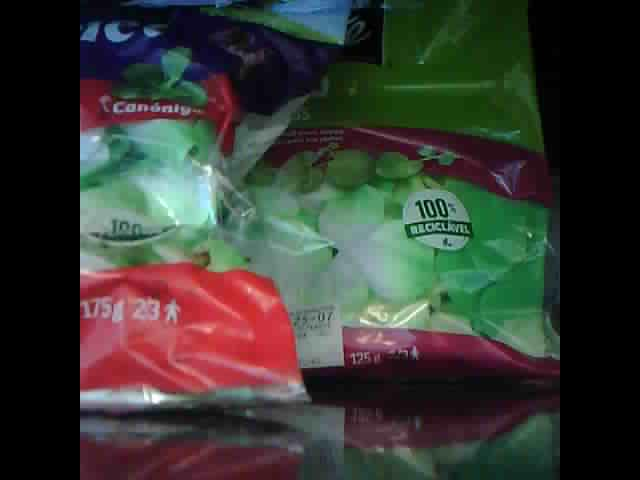florette: (238, 1, 559, 387), (82, 3, 348, 416)
